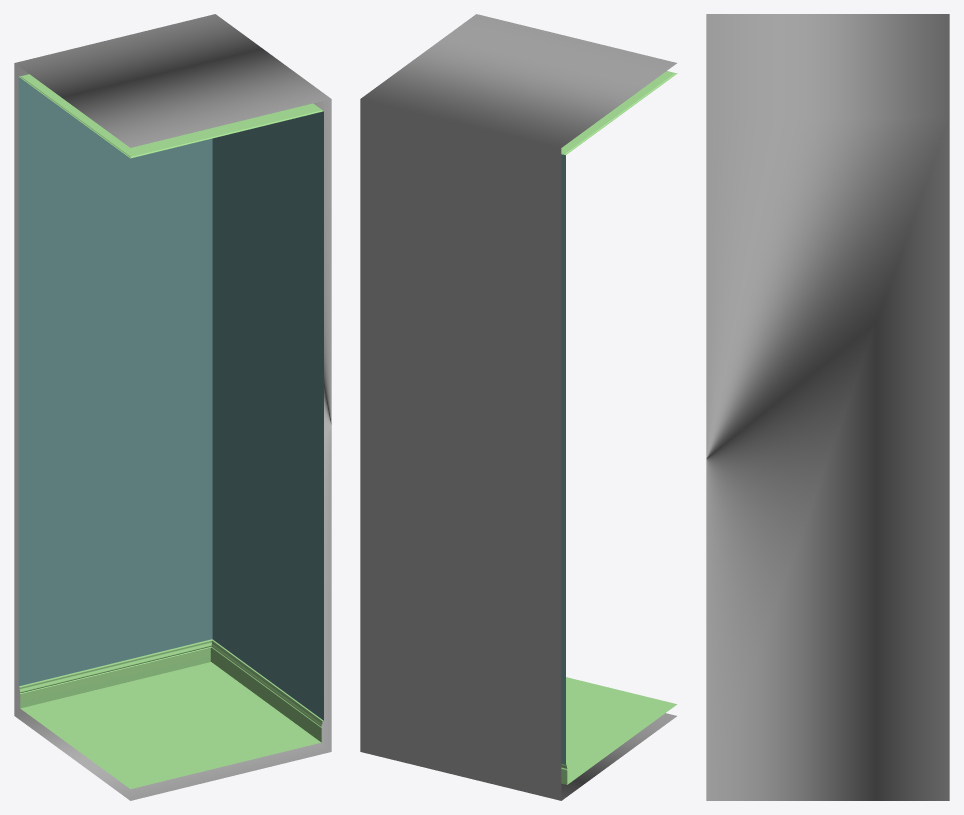
Rendered from Room_1x1_corner_in_geo.fbx.
The picture shows the model from 3 angles, left to right: view 1: azimuth 30°, elevation 25°; view 2: azimuth 150°, elevation 25°; view 3: azimuth 270°, elevation 25°; orthographic projection. The views are drawn at different scales.
Parts seen in each view (by area): view 1: Room_1x1_corner_in_geo; view 2: Room_1x1_corner_in_geo; view 3: Room_1x1_corner_in_geo.
Part boxes in pixels (x1,y1,x2,y2): Room_1x1_corner_in_geo: (14, 14, 331, 800); Room_1x1_corner_in_geo: (360, 14, 677, 800); Room_1x1_corner_in_geo: (706, 14, 949, 800).
Size of the model in its own units: 1 by 3.1 by 1.
